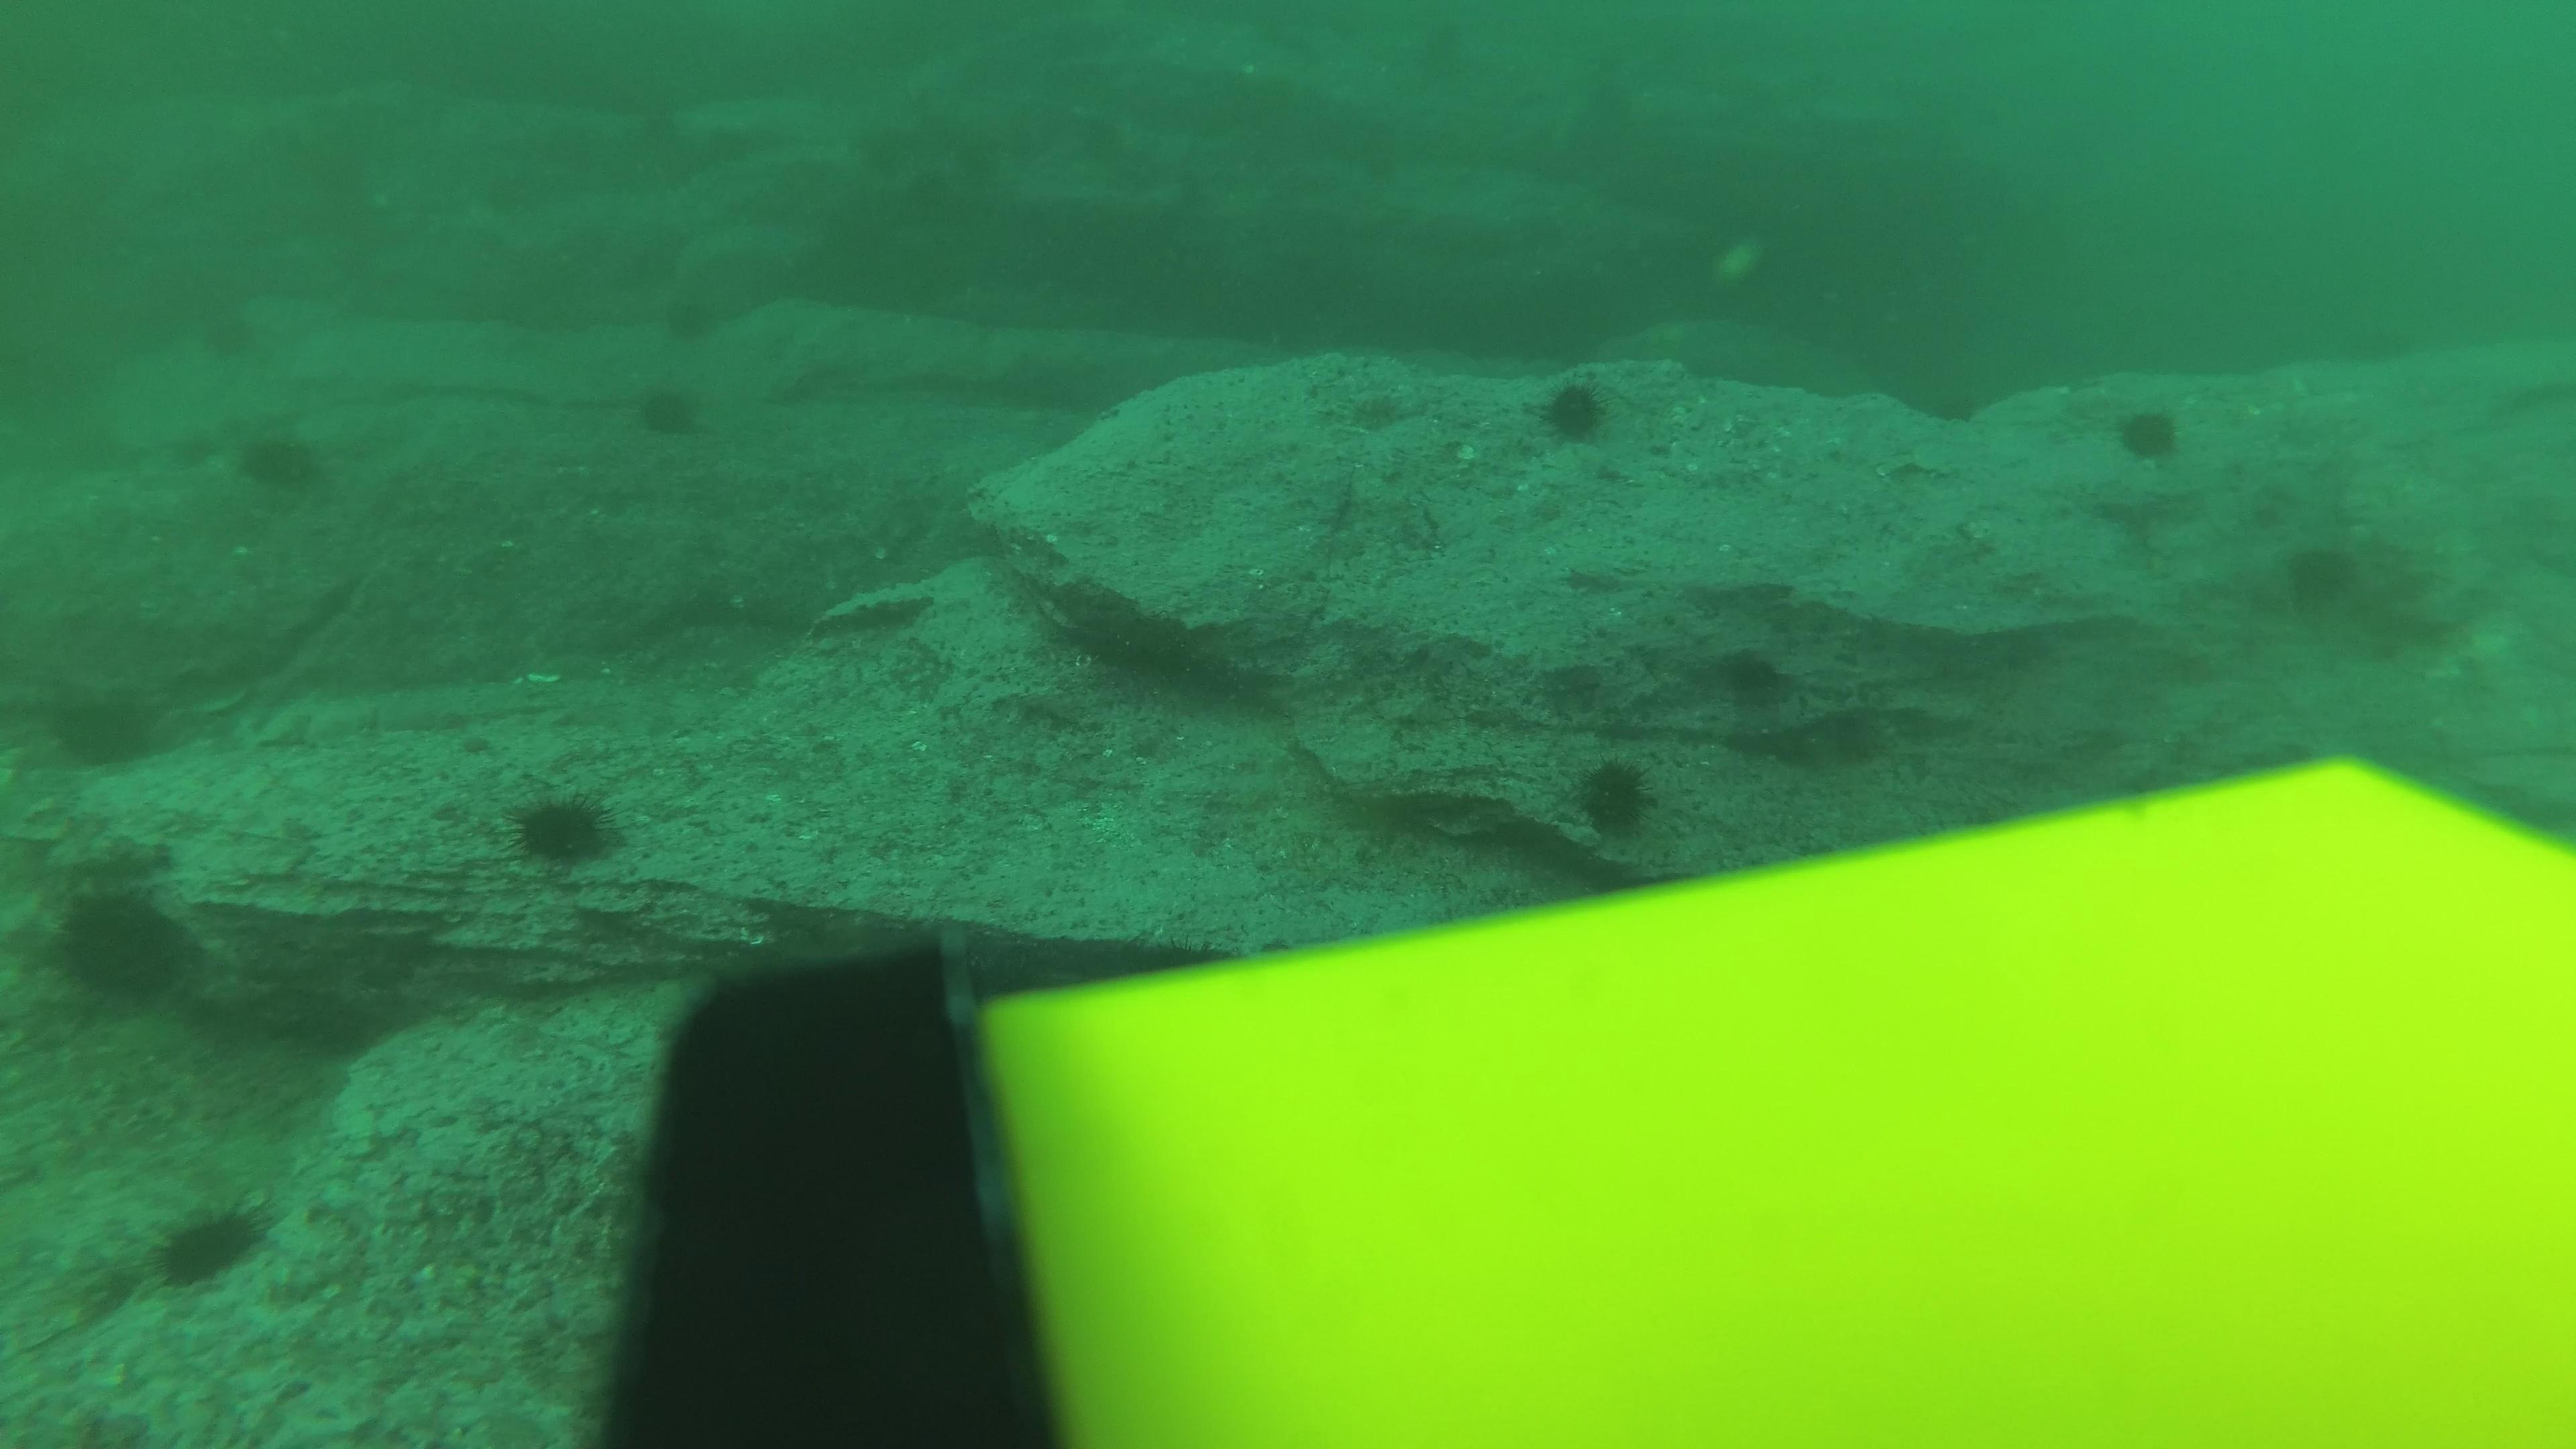echinus: (44, 878, 196, 1012), (143, 1194, 274, 1295), (41, 676, 170, 775), (502, 782, 628, 878), (1560, 750, 1667, 844), (230, 418, 331, 501), (2273, 534, 2365, 621), (1527, 372, 1622, 451), (1709, 640, 1798, 713), (632, 127, 715, 200), (175, 292, 258, 364), (1054, 94, 1138, 166), (1414, 0, 1497, 73), (879, 152, 962, 225), (2107, 396, 2189, 469), (626, 373, 709, 444), (648, 290, 731, 361), (619, 76, 702, 147), (1244, 2, 1327, 73), (824, 113, 908, 184), (941, 117, 1024, 188)
starfish: (249, 694, 373, 755)
